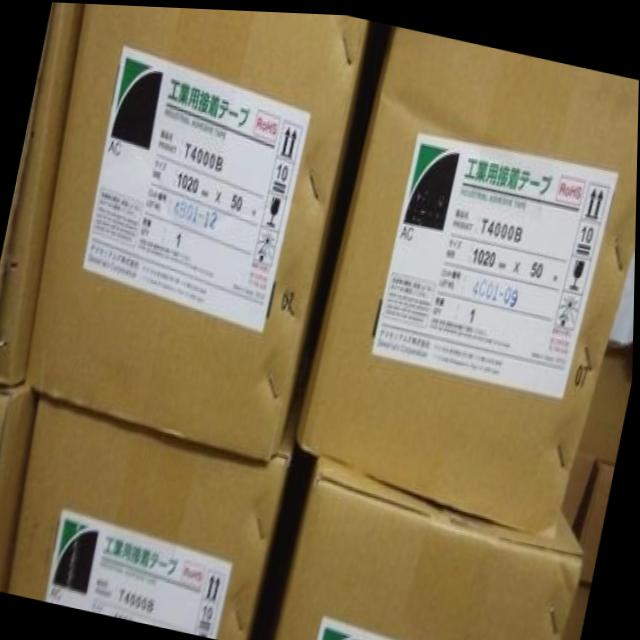box: (298, 21, 639, 533), (26, 3, 369, 461), (7, 395, 298, 640), (274, 454, 585, 640)
